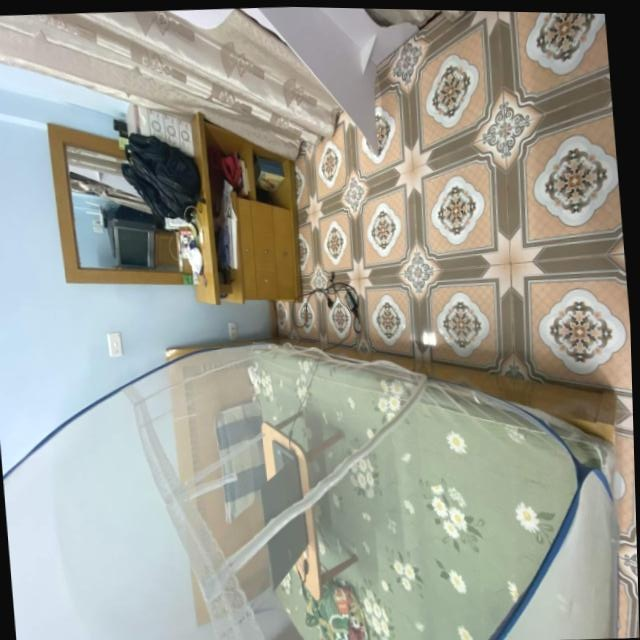outlet: (227, 322, 237, 340)
